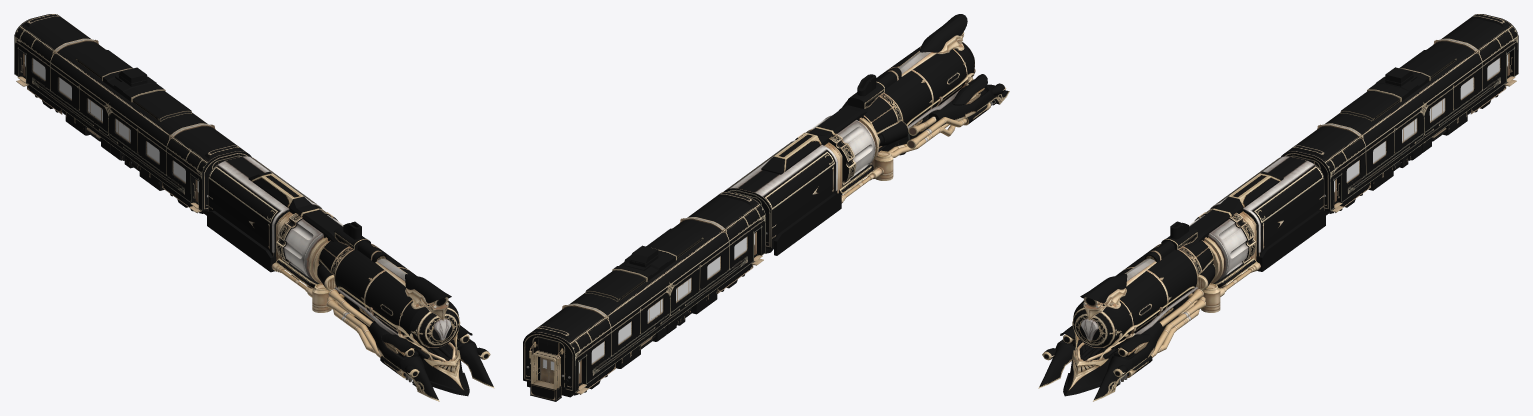
File: train2.glb
3 renders of one model, left to right at view 1: azimuth 30°, elevation 25°; view 2: azimuth 150°, elevation 25°; view 3: azimuth 330°, elevation 25°, orthographic.
Visible parts, largest first — view 1: mesh_45_70.nr; view 2: mesh_45_70.nr; view 3: mesh_45_70.nr.
Boxes of the visible parts, <box> form: mesh_45_70.nr: <box>14,14,494,401</box>; mesh_45_70.nr: <box>523,14,1009,401</box>; mesh_45_70.nr: <box>1038,14,1518,401</box>.
Bounding box in the file's own units: 0.5583 × 0.5957 × 5.14.
Materials: 6 (6 with a texture image).
